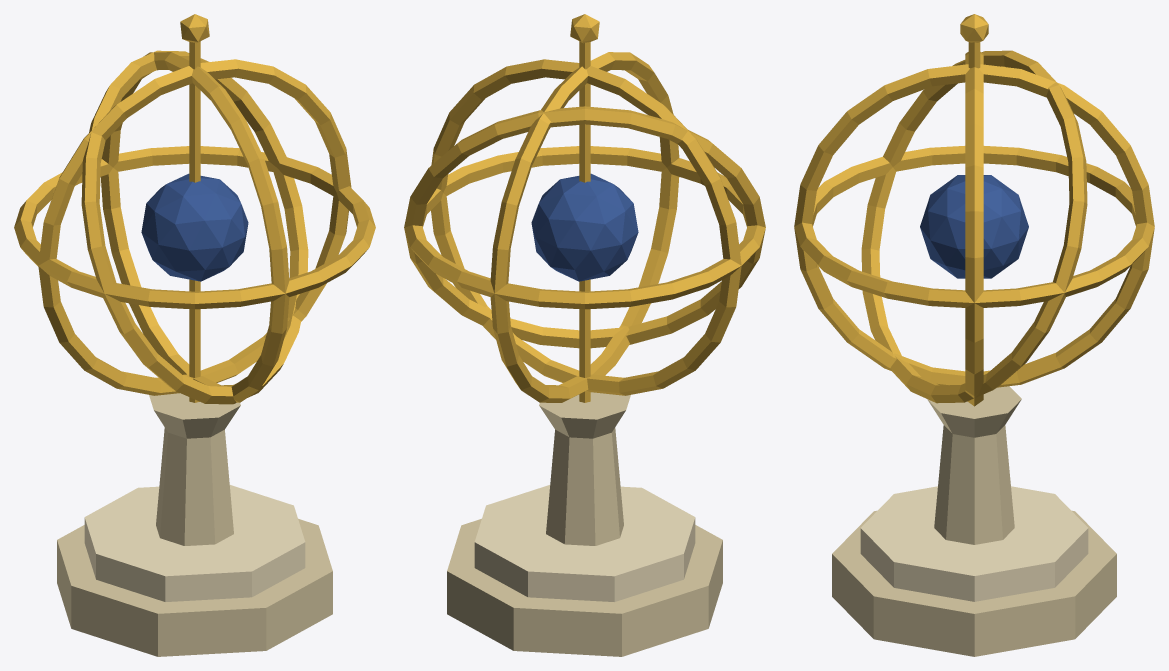
The model's file is monument-armillary.glb.
3 renders of one model, left to right at view 1: azimuth 30°, elevation 25°; view 2: azimuth 150°, elevation 25°; view 3: azimuth 270°, elevation 25°, orthographic.
Parts seen in each view (by area): view 1: Tapered form; view 2: Tapered form; view 3: Tapered form.
Part boxes in pixels (x1,y1,x2,y2): Tapered form: (14, 14, 375, 656); Tapered form: (404, 14, 765, 656); Tapered form: (794, 14, 1154, 656).
Bounding box in the file's own units: 0.76 × 1.36 × 0.76.
